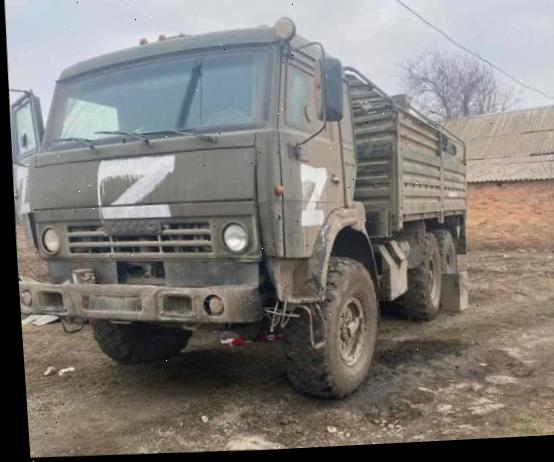truck: (5, 9, 506, 401)
